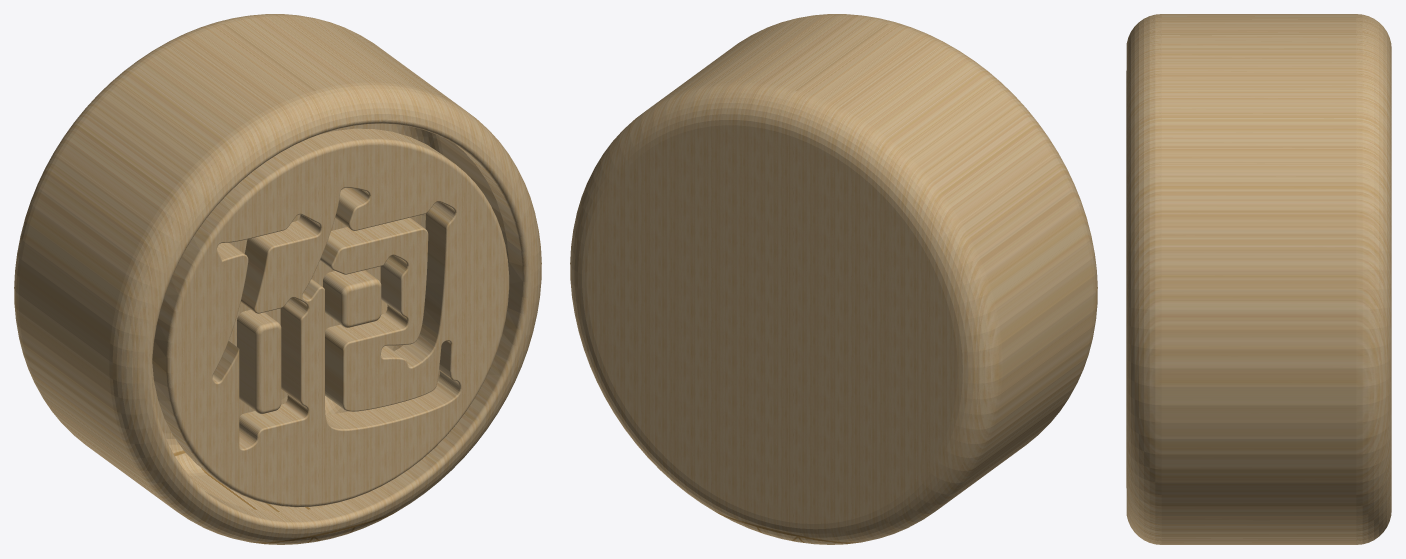
Rendered from h01_chess_black_cannon_wood.obj.
3 renders of one model, left to right at view 1: azimuth 30°, elevation 25°; view 2: azimuth 150°, elevation 25°; view 3: azimuth 270°, elevation 25°, orthographic. The views are drawn at different scales.
Size of the model in its own units: 0.03 by 0.03 by 0.015.
1 material, 1 textured.
